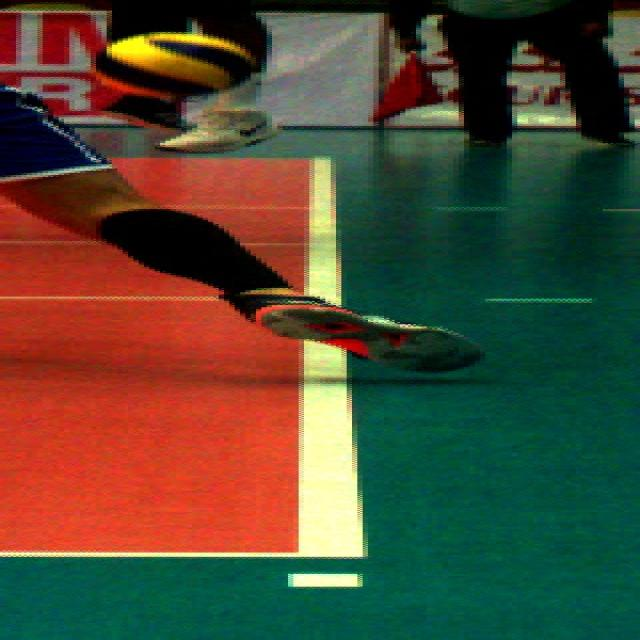Volleyball: (87, 33, 257, 99)
